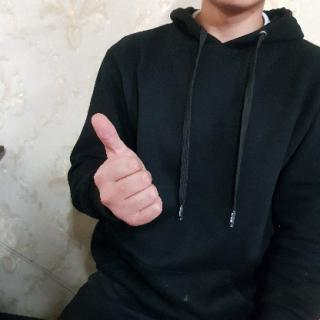ALIF: (88, 109, 170, 226)
